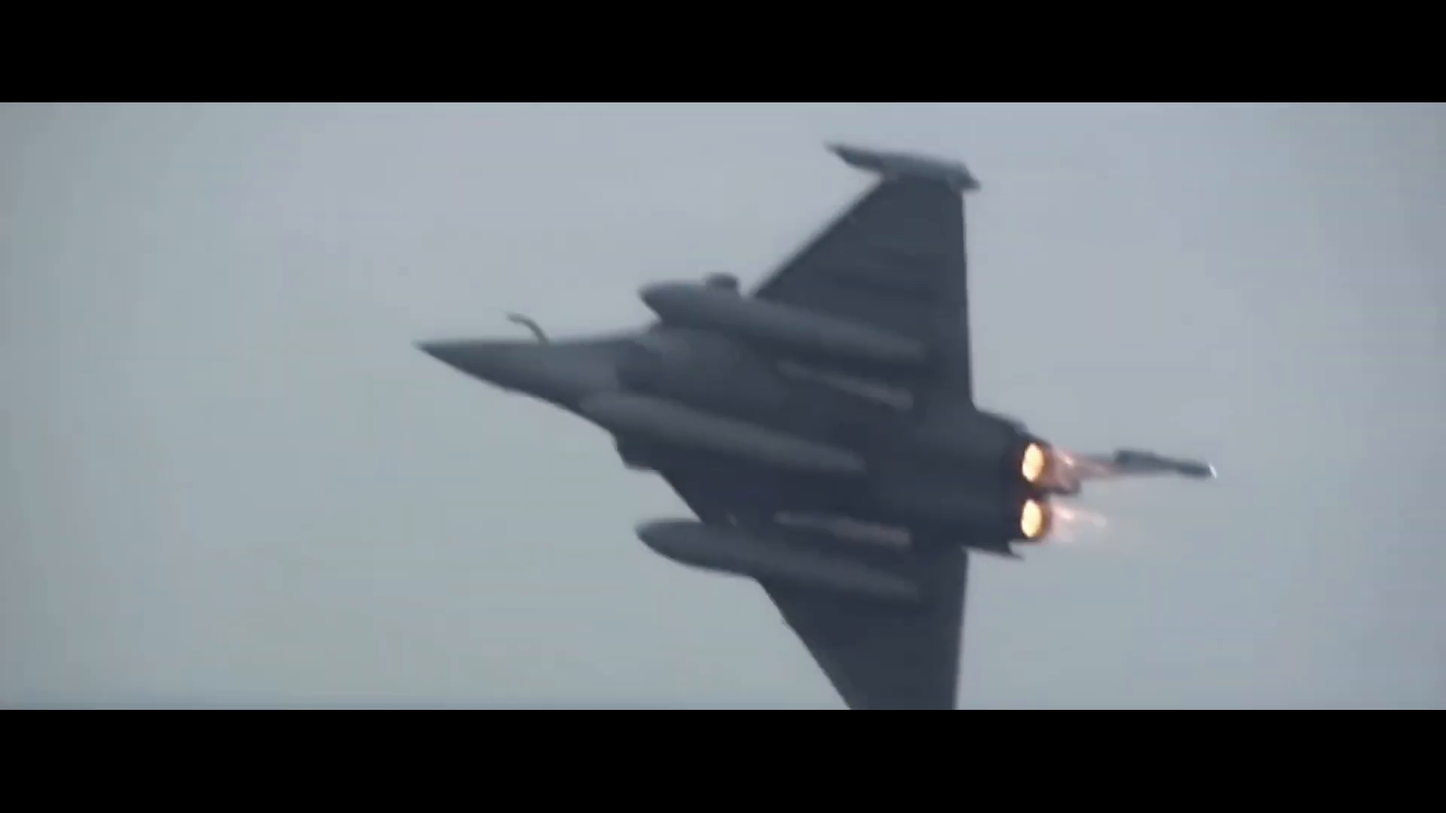Rafale: (399, 130, 1228, 718)
